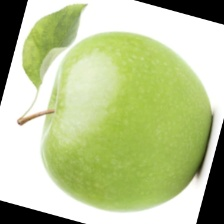apple: (12, 32, 195, 215)
